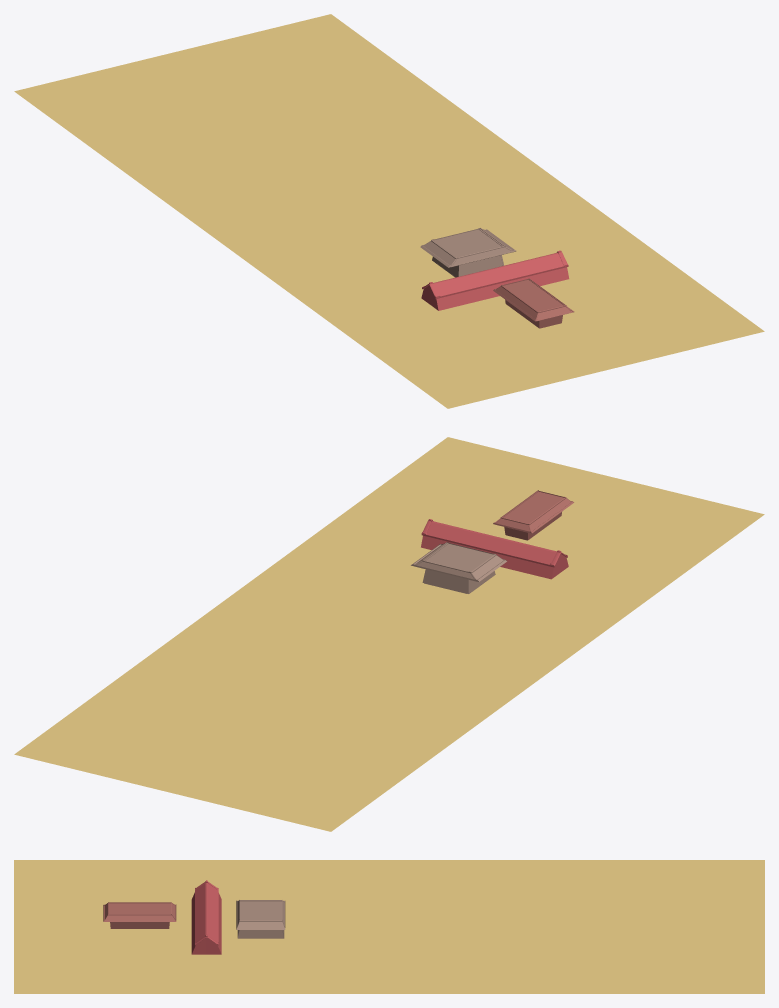
File: SusakuStage2.fbx
The picture shows the model from 3 angles, top to bottom: view 1: azimuth 30°, elevation 25°; view 2: azimuth 150°, elevation 25°; view 3: azimuth 270°, elevation 25°; orthographic projection. The views are drawn at different scales.
Visible parts, largest first — view 1: Plane.001, Cube.004, Cube.005, Cube.003; view 2: Plane.001, Cube.004, Cube.005, Cube.003; view 3: Plane.001, Cube.004, Cube.005, Cube.003.
Part boxes in pixels (bbox=[...]): Plane.001: bbox=[14, 14, 764, 408]; Cube.004: bbox=[421, 250, 569, 310]; Cube.005: bbox=[420, 228, 516, 277]; Cube.003: bbox=[493, 278, 574, 328]; Plane.001: bbox=[14, 437, 764, 831]; Cube.004: bbox=[421, 519, 568, 579]; Cube.005: bbox=[411, 542, 507, 593]; Cube.003: bbox=[493, 490, 573, 540]; Plane.001: bbox=[14, 860, 764, 993]; Cube.004: bbox=[191, 880, 221, 954]; Cube.005: bbox=[236, 900, 285, 938]; Cube.003: bbox=[103, 902, 176, 928].
Size of the model in its own units: 79.67 by 6.62 by 189.
